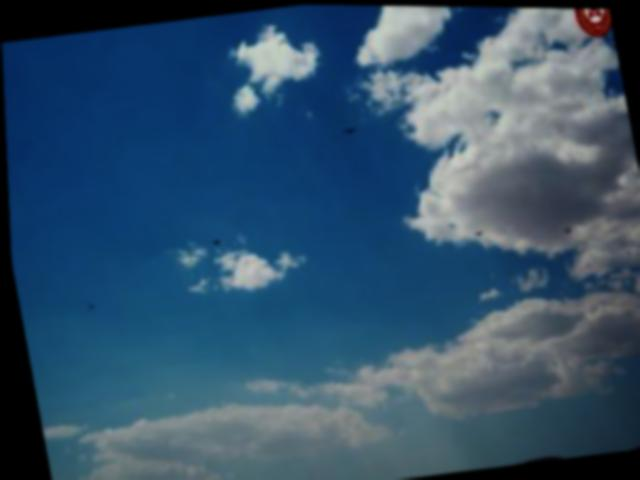uav: (340, 123, 358, 136), (470, 227, 484, 235)
